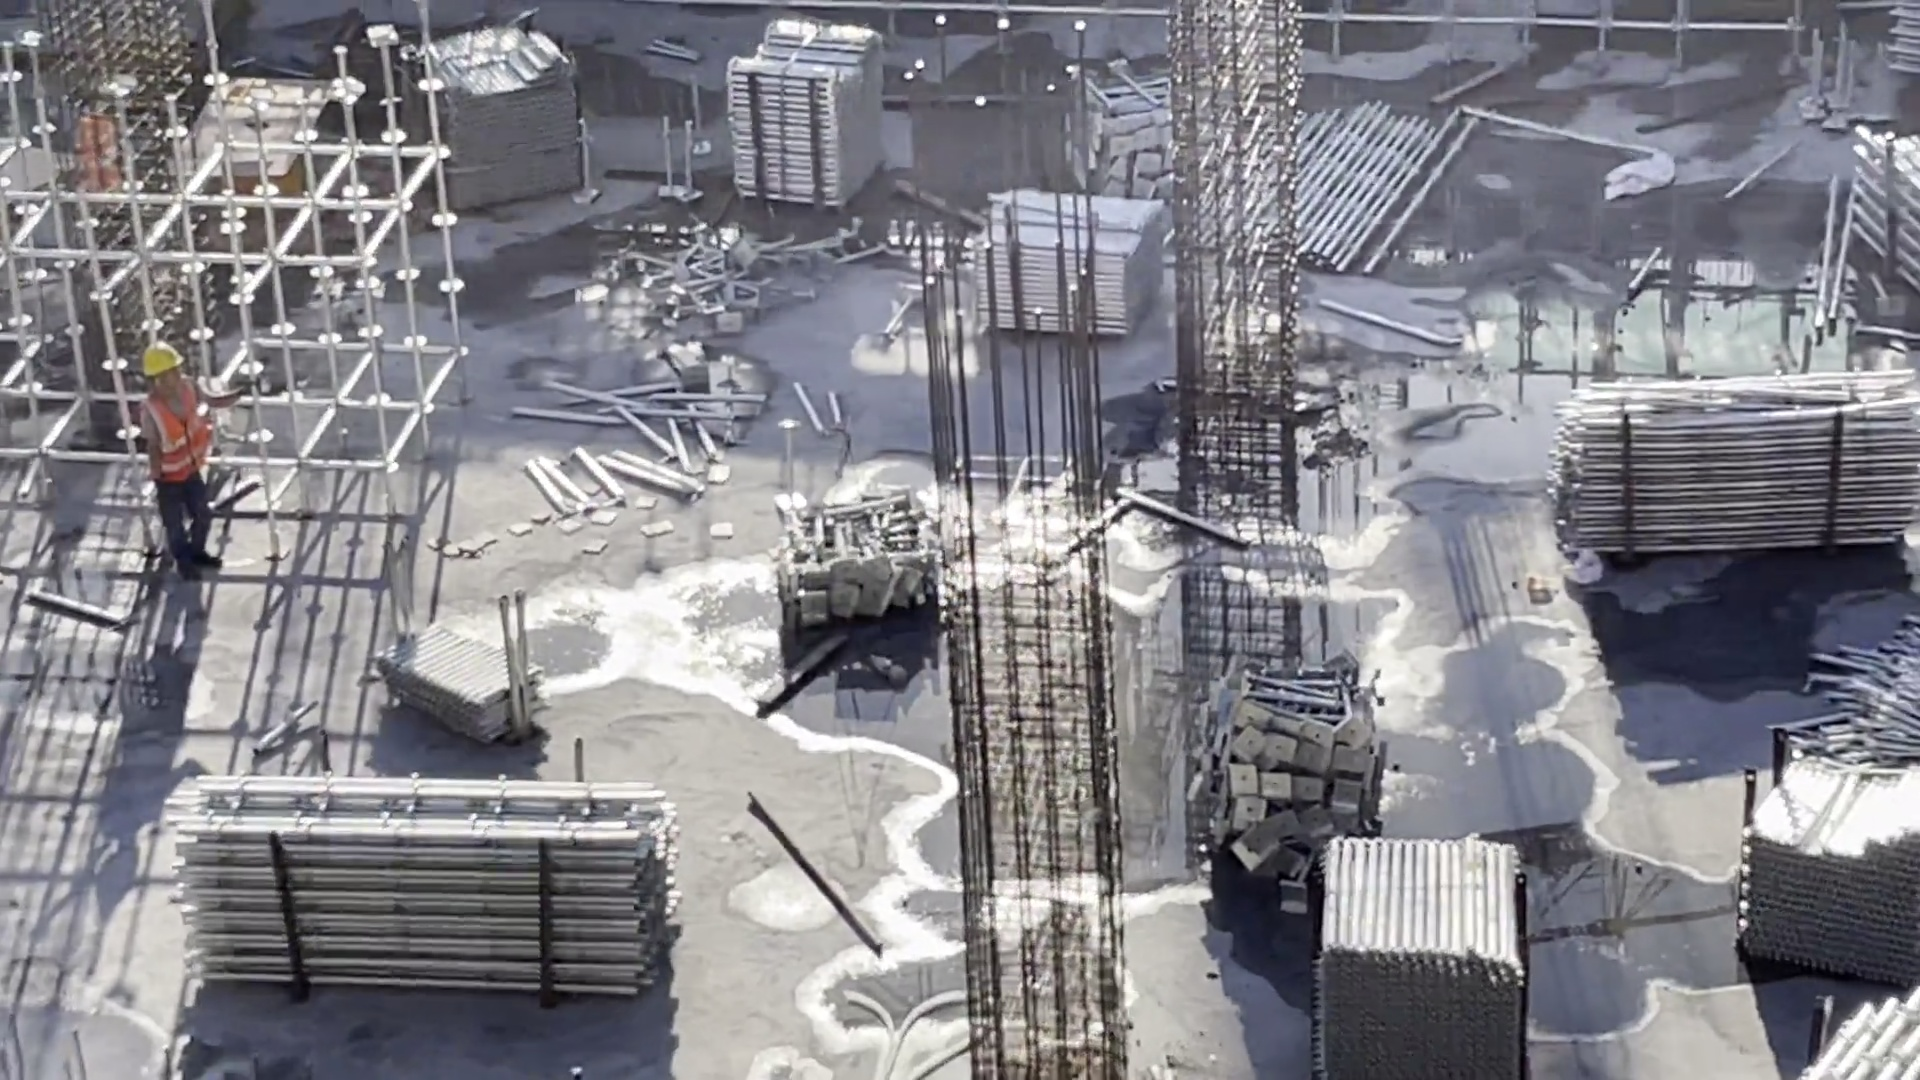cutter: (171, 63, 354, 249)
helmet: (135, 347, 177, 369)
person: (130, 349, 228, 582)
scaffold: (175, 768, 677, 1000), (1559, 371, 1920, 552), (1313, 833, 1548, 1080), (1730, 751, 1920, 987), (1214, 670, 1385, 911), (710, 18, 873, 237), (392, 31, 592, 209), (940, 171, 1143, 338), (1285, 104, 1478, 265), (387, 593, 534, 742), (782, 498, 957, 616), (1069, 70, 1200, 218), (1848, 133, 1920, 286)
vest: (136, 382, 213, 477)
